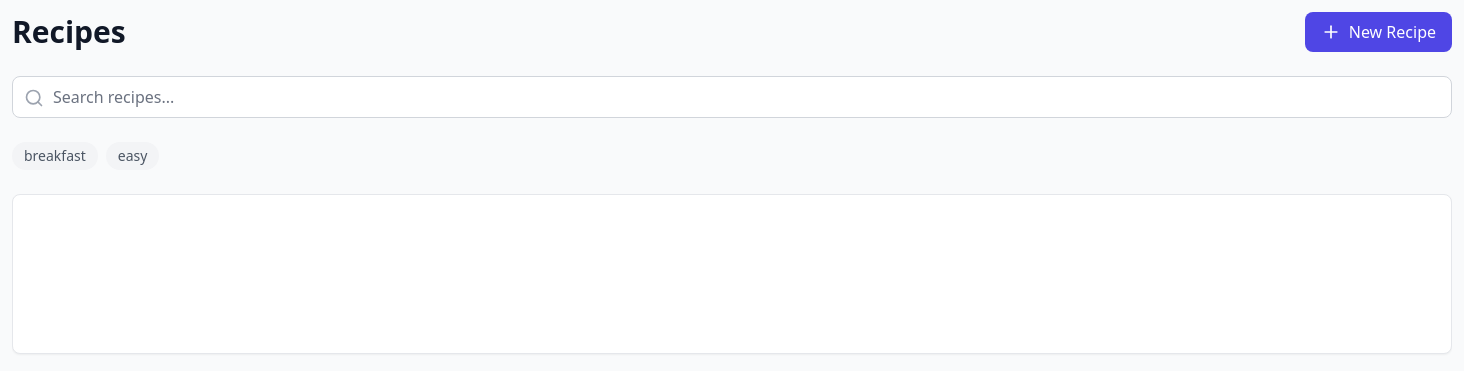
Test: RecipeList › filters recipes by search query
Type "pancake" into the field with placeholder "Search recipes..." at (732, 97), box [12, 76, 1452, 118]
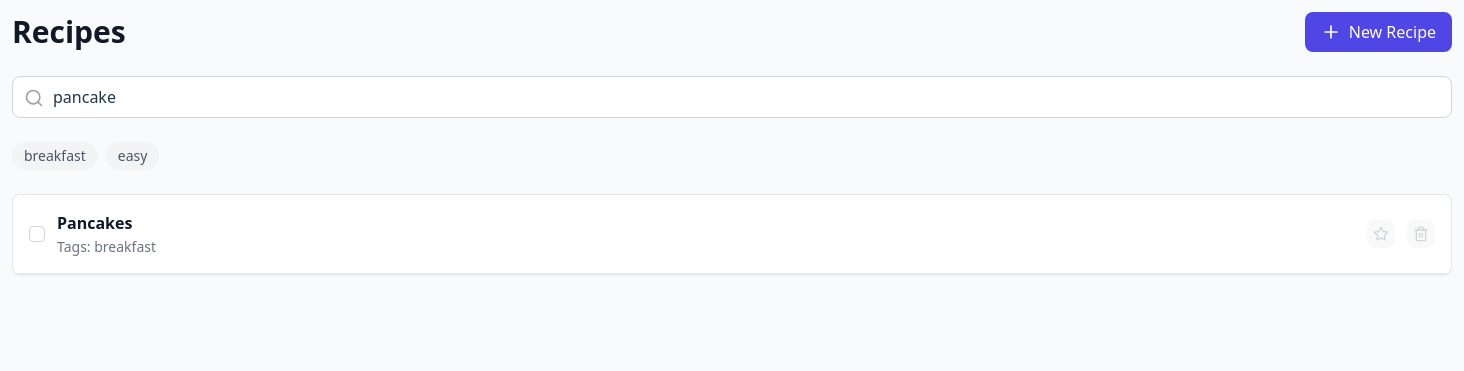
Now the link "Pancakes Tags: breakfast" is shown, box [57, 212, 156, 256]
